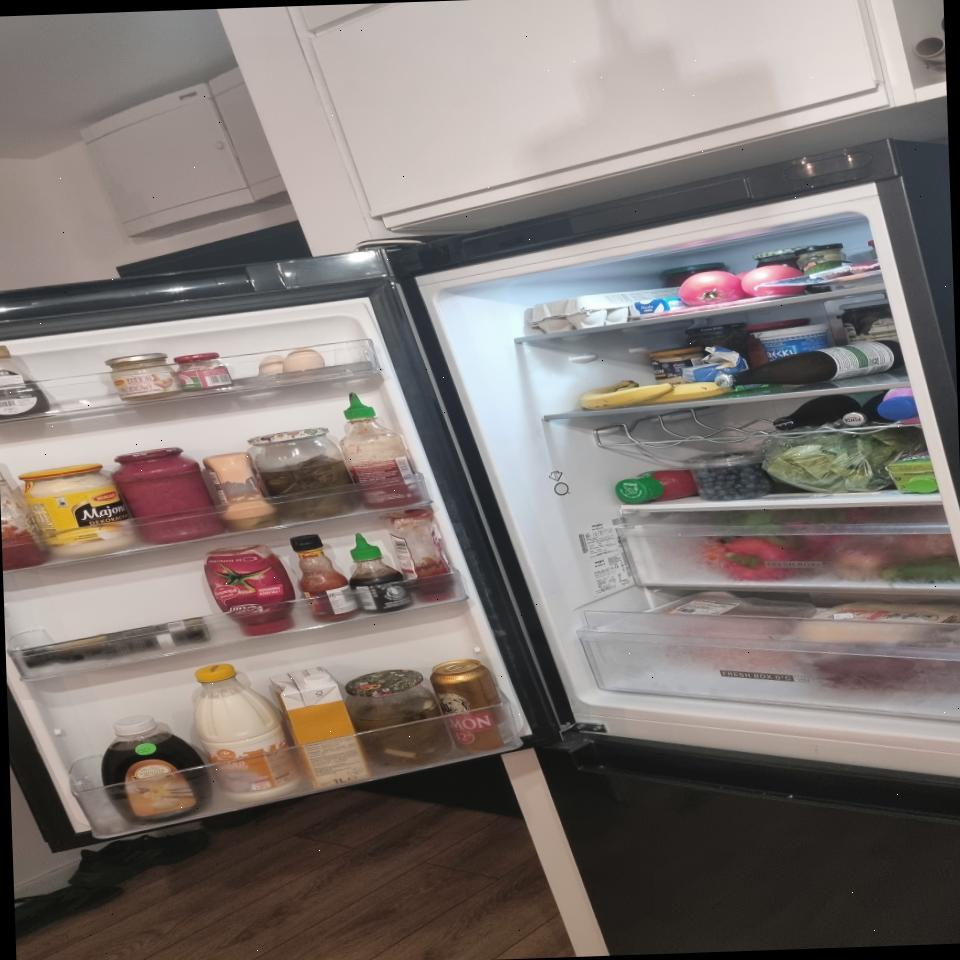Aguacate: (804, 259, 861, 293)
Carne pollo: (642, 591, 818, 645)
Huevos: (528, 286, 688, 336), (256, 348, 326, 378)
Leche: (193, 660, 304, 804), (266, 666, 373, 792)
Lechuga/Endivia: (761, 426, 927, 496)
Mantequilla: (682, 345, 750, 382)
Manzana: (832, 542, 898, 582)
Pepino: (881, 562, 960, 583)
Plátano: (578, 377, 730, 411)
Queso: (792, 599, 960, 645)
Tomate: (677, 270, 744, 308), (741, 264, 806, 298)
Yogur: (750, 322, 836, 363)
